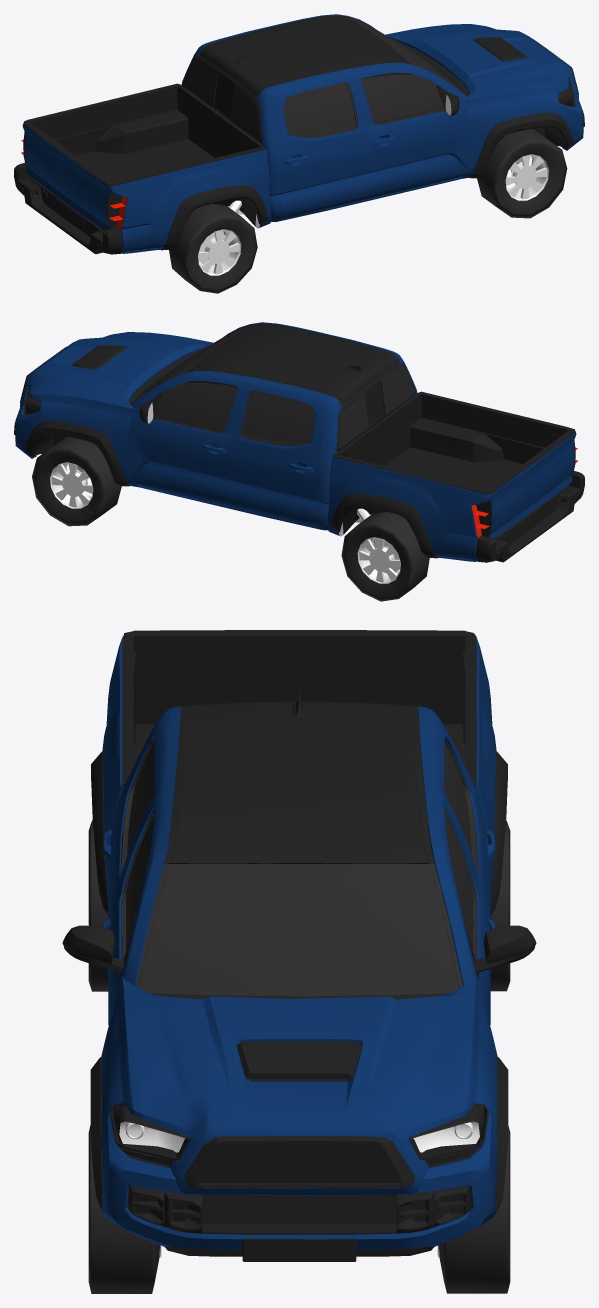
Rendered from sm_toyota_tacoma_lod_2.fbx.
3 views of the same model, one above another, from view 1: azimuth 30°, elevation 25°; view 2: azimuth 150°, elevation 25°; view 3: azimuth 270°, elevation 25° (orthographic). The views are drawn at different scales.
Visible parts, largest first — view 1: lod_2; view 2: lod_2; view 3: lod_2.
Part boxes in pixels (x1,y1,x2,y2): lod_2: (14,14,584,293); lod_2: (14,322,584,601); lod_2: (62,630,536,1293).
Bounding box in the file's own units: 5.27 × 1.84 × 2.19.
Materials: 6 (6 with a texture image).
